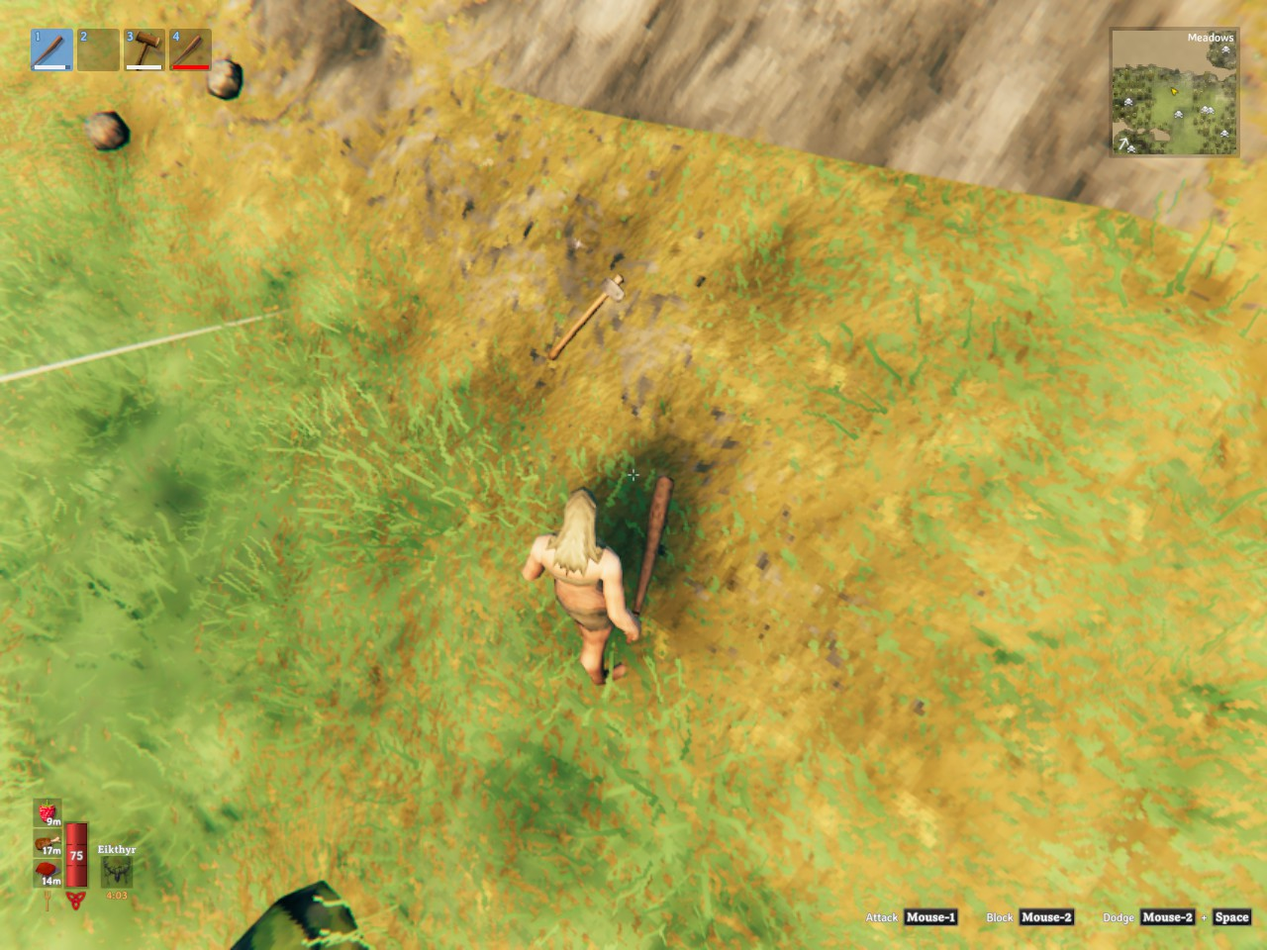Club: (634, 476, 671, 614)
Food Indicator: (36, 797, 63, 891)
Health Bar: (63, 820, 90, 891)
Hotbar: (25, 21, 398, 78)
Stone: (85, 112, 129, 149)
Stone Axe: (548, 275, 624, 358)
